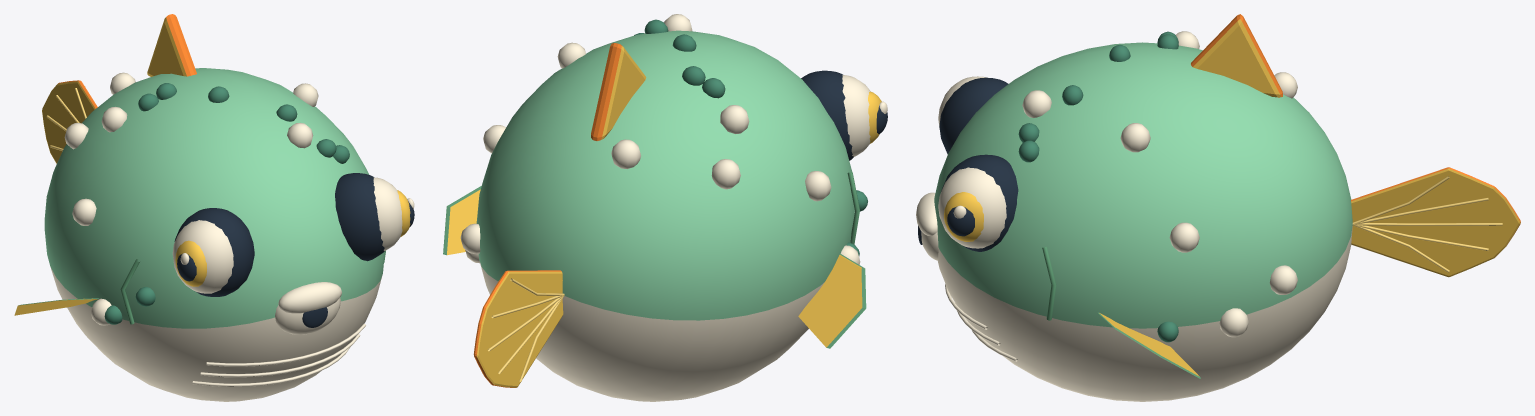
File: pufferfish.glb
3 renders of one model, left to right at view 1: azimuth 30°, elevation 25°; view 2: azimuth 150°, elevation 25°; view 3: azimuth 270°, elevation 25°, orthographic. The views are drawn at different scales.
Visible parts, largest first — view 1: BodyMesh, TailMesh, FlipperMesh; view 2: BodyMesh, TailMesh, FlipperMesh, FlipperMesh.001; view 3: BodyMesh, TailMesh, FlipperMesh.001.
Part boxes in pixels (x1=…): BodyMesh: x1=44, y1=14, x2=414, y2=401; TailMesh: x1=42, y1=80, x2=97, y2=163; FlipperMesh: x1=14, y1=298, x2=98, y2=315; BodyMesh: x1=460, y1=14, x2=887, y2=401; TailMesh: x1=473, y1=270, x2=564, y2=387; FlipperMesh: x1=798, y1=254, x2=866, y2=348; FlipperMesh.001: x1=443, y1=186, x2=481, y2=255; BodyMesh: x1=916, y1=14, x2=1352, y2=401; TailMesh: x1=1351, y1=167, x2=1520, y2=277; FlipperMesh.001: x1=1097, y1=312, x2=1200, y2=378.
Size of the model in its own units: 2.06 by 1.75 by 2.59.
